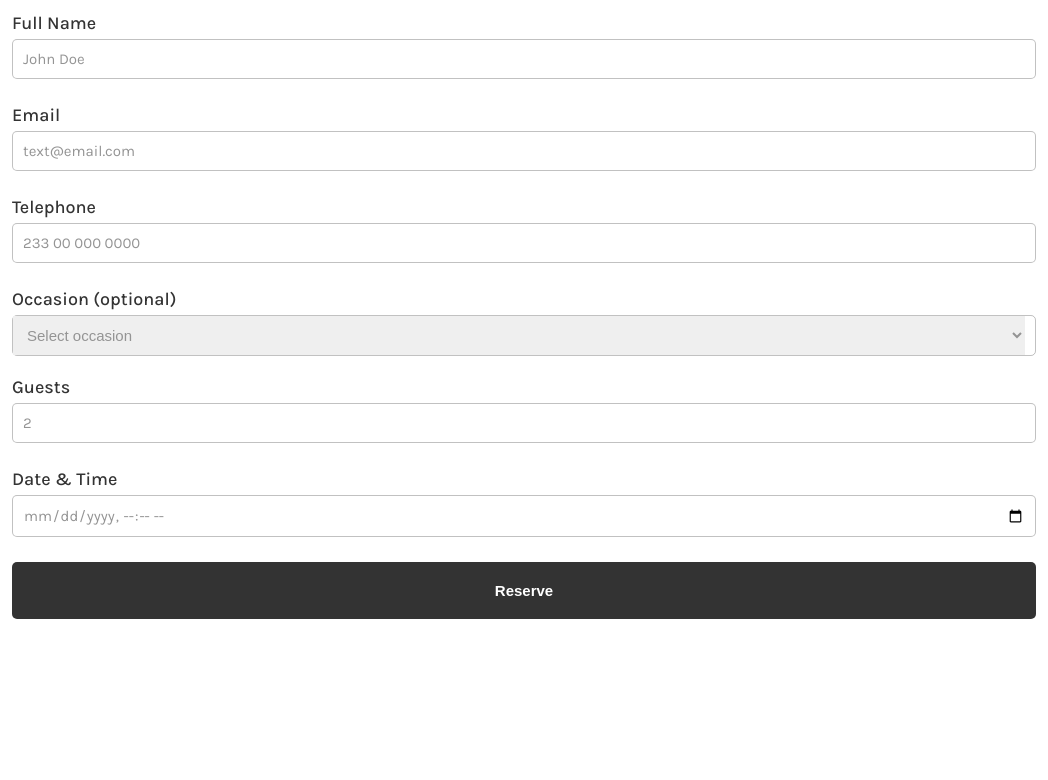
it: Form Component › shows validation error for invalid phone number format
Type "12345" into the field labelled "Telephone" at (524, 243), box [12,223,1036,263]
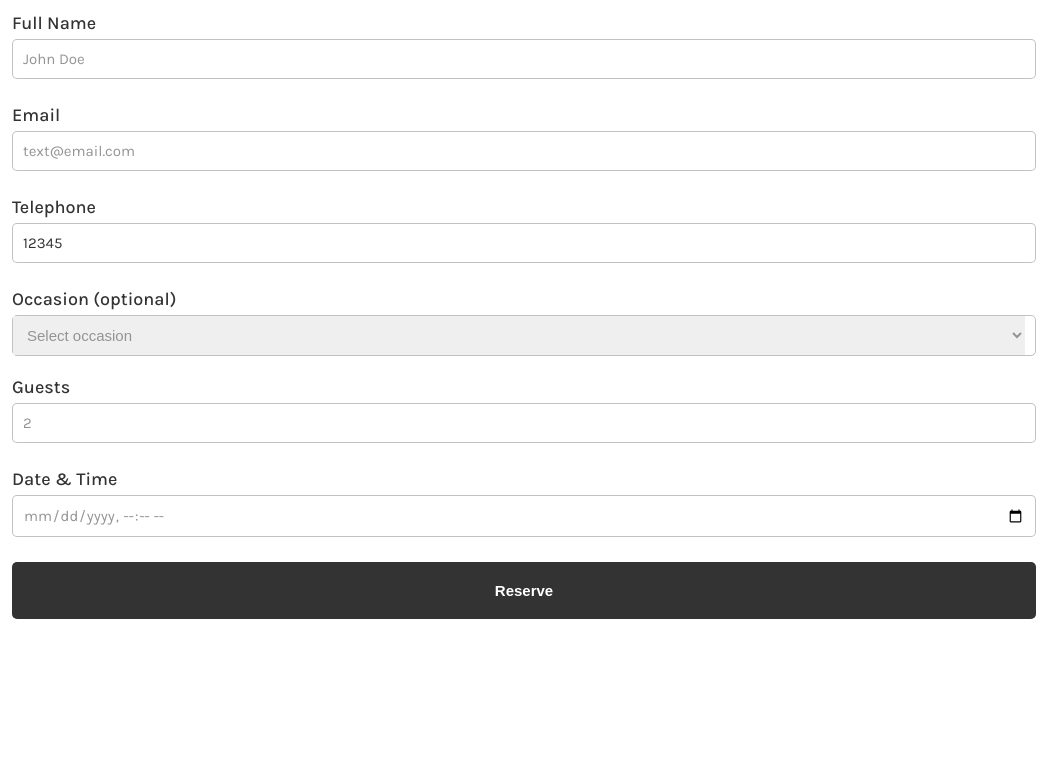
Click the button "Reserve" at (524, 590), box [12,562,1036,619]
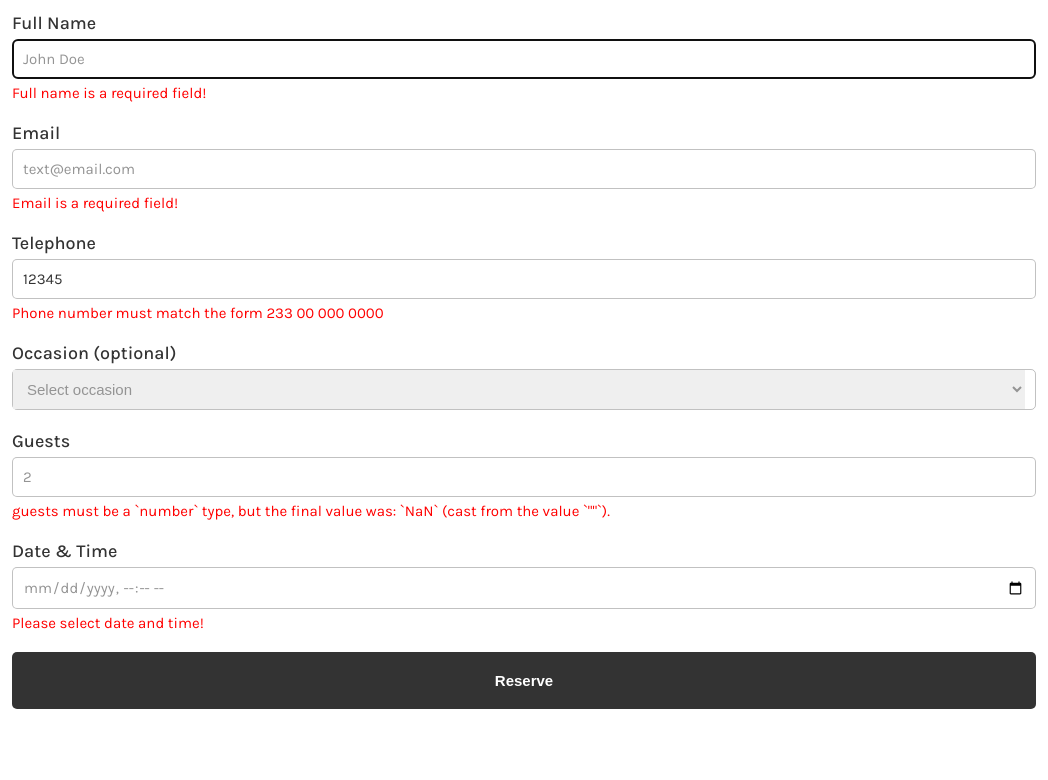
Expected: the text "Phone number must match the form 233 00 000 0000" is shown, [12,304,384,322]
